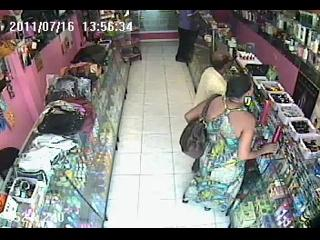Normal: (180, 85, 280, 221), (178, 95, 222, 160), (194, 50, 234, 107), (174, 10, 200, 66)
